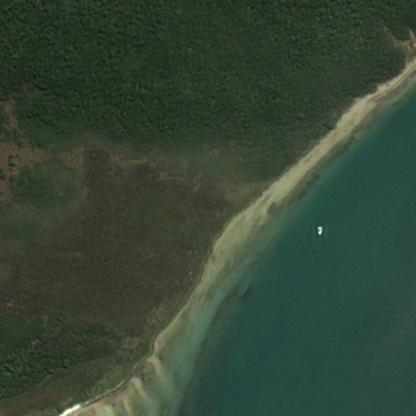ship: (310, 219, 329, 239)
